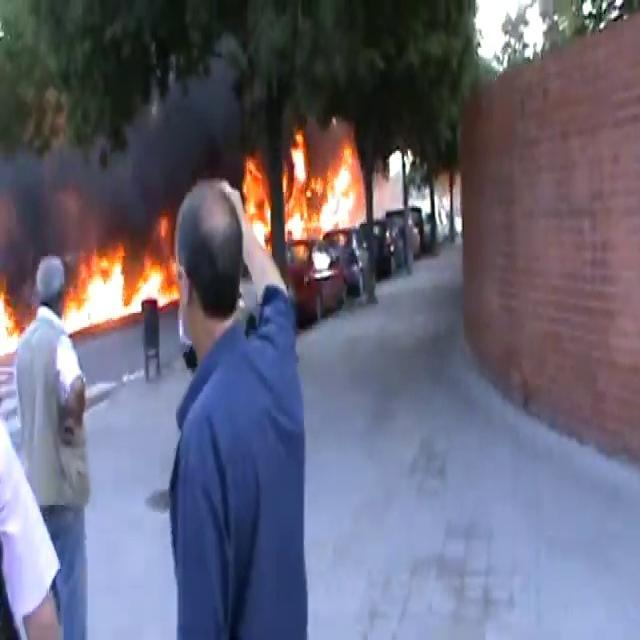Fire: (240, 126, 366, 252), (64, 242, 178, 328), (0, 275, 24, 361)
Smoke: (1, 46, 240, 260)
